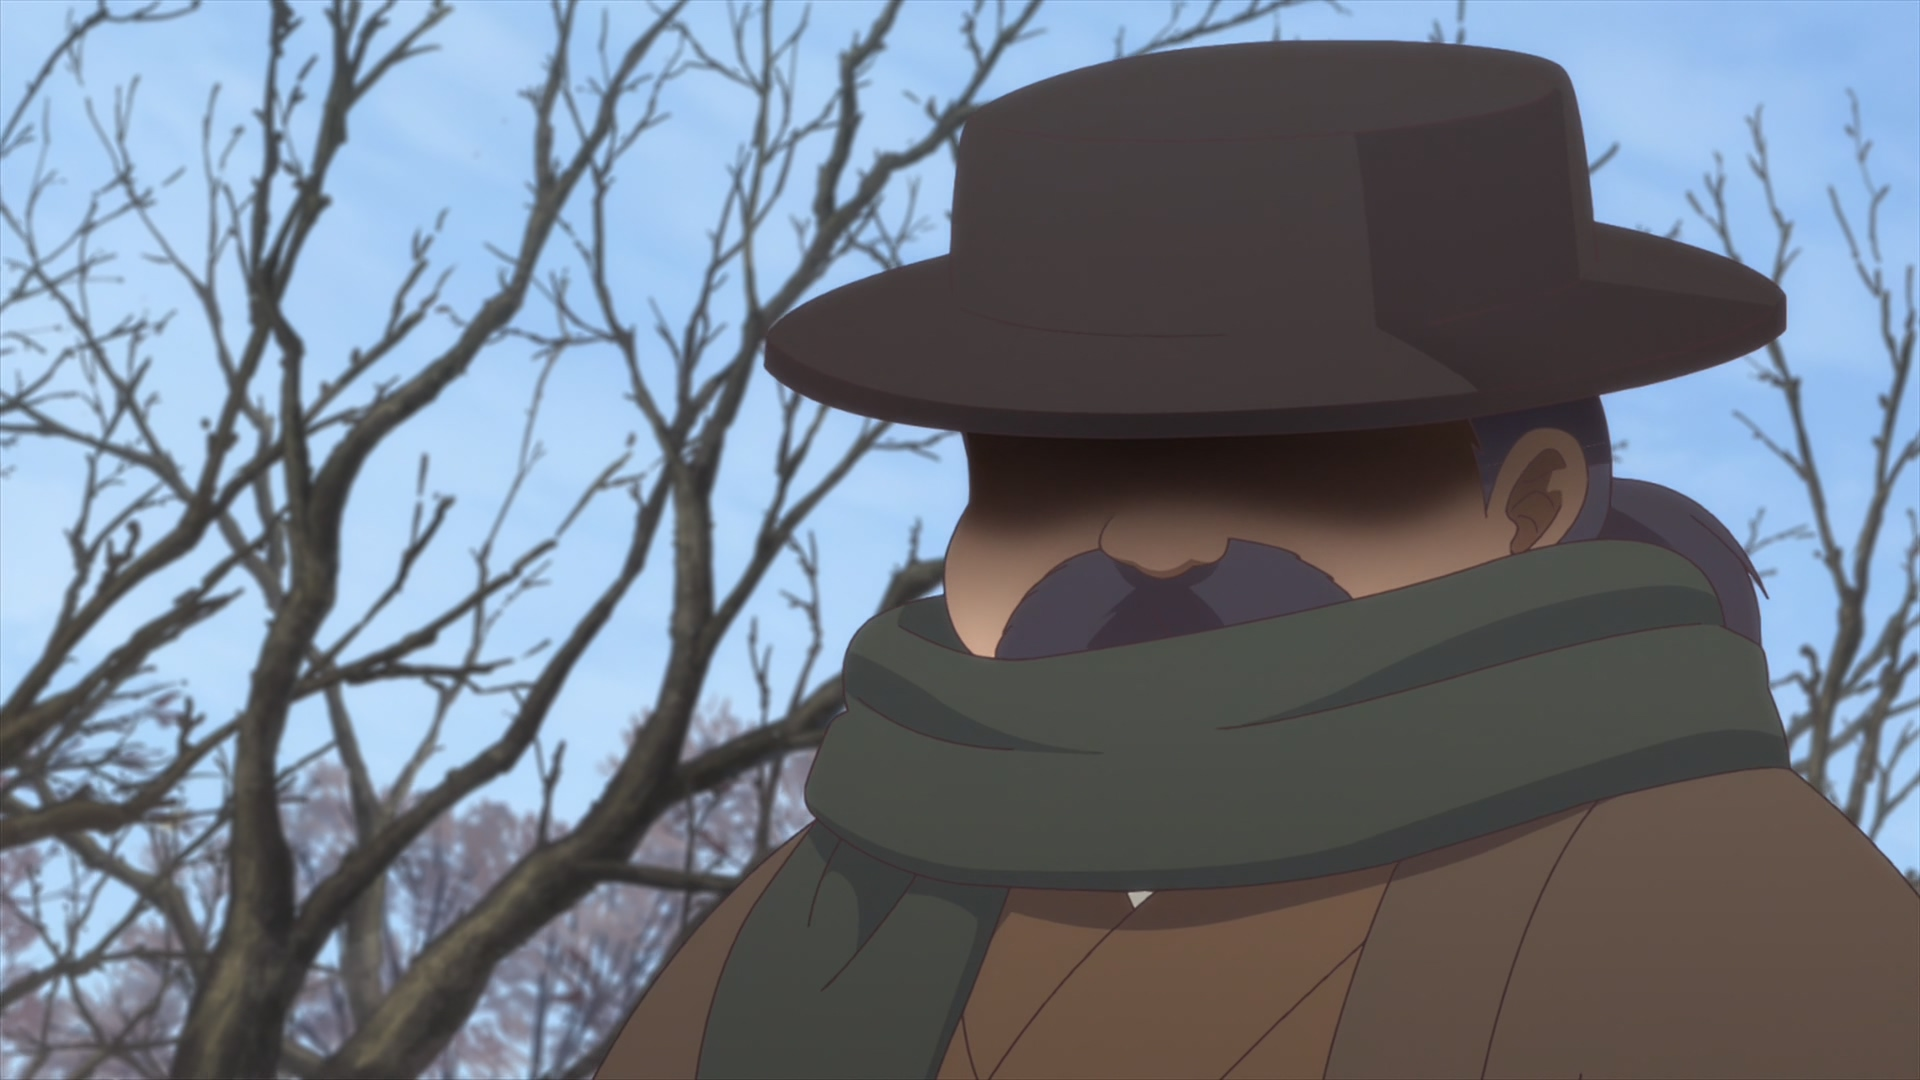其他: (589, 41, 1920, 1080)
